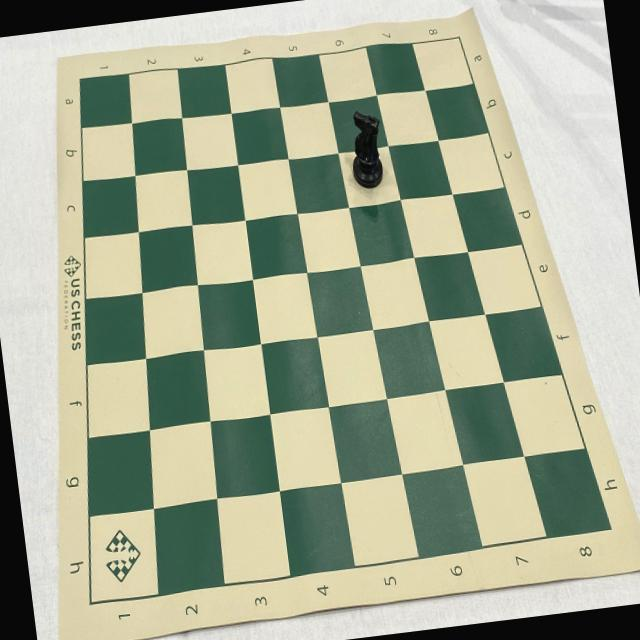black-knight: (344, 106, 387, 193)
